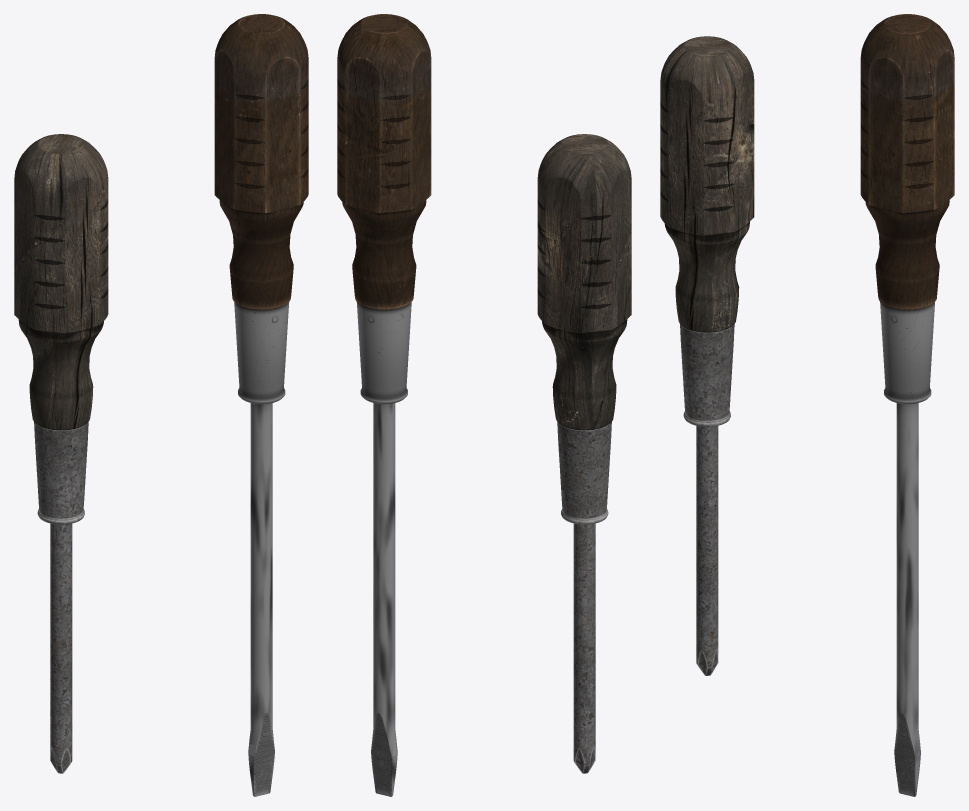
The model's file is screwdrivers_02.glb.
3 renders of one model, left to right at view 1: azimuth 30°, elevation 25°; view 2: azimuth 150°, elevation 25°; view 3: azimuth 330°, elevation 25°, orthographic.
Parts seen in each view (by area): view 1: screwdrivers_02_a, screwdrivers_02_b; view 2: screwdrivers_02_a, screwdrivers_02_b; view 3: screwdrivers_02_a, screwdrivers_02_b.
Boxes of the visible parts, x1,y1,x2,y2 form: screwdrivers_02_a: [214, 14, 308, 796]; screwdrivers_02_b: [14, 134, 108, 773]; screwdrivers_02_a: [337, 14, 431, 796]; screwdrivers_02_b: [537, 134, 631, 773]; screwdrivers_02_a: [860, 14, 954, 796]; screwdrivers_02_b: [660, 36, 754, 675].
Size of the model in its own units: 0.1005 by 0.2699 by 0.0271.
1 material, 1 textured.
